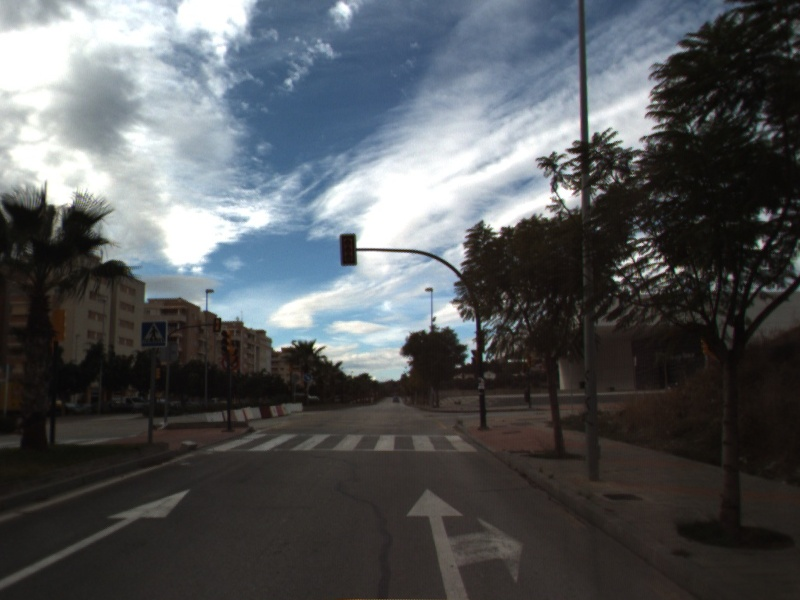STRAIGHT: (1, 486, 193, 591)
STRAIGHT_RIGHT: (404, 486, 526, 600)
